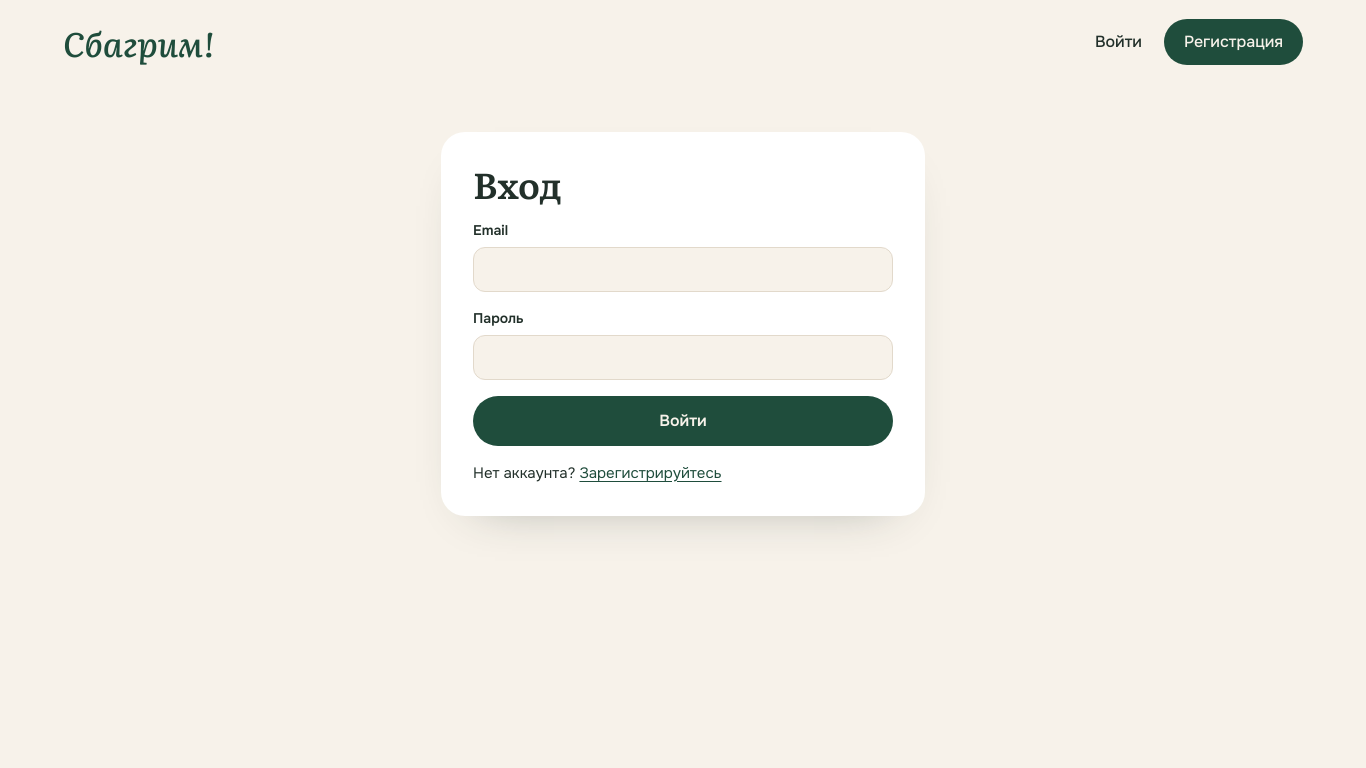
Test: вход и регистрация › показывает ошибку при неверном пароле
Type "ivan@mail.ru" into the field labelled "Email" at x=683, y=269, box top-left (473, 247), bottom-right (893, 292)
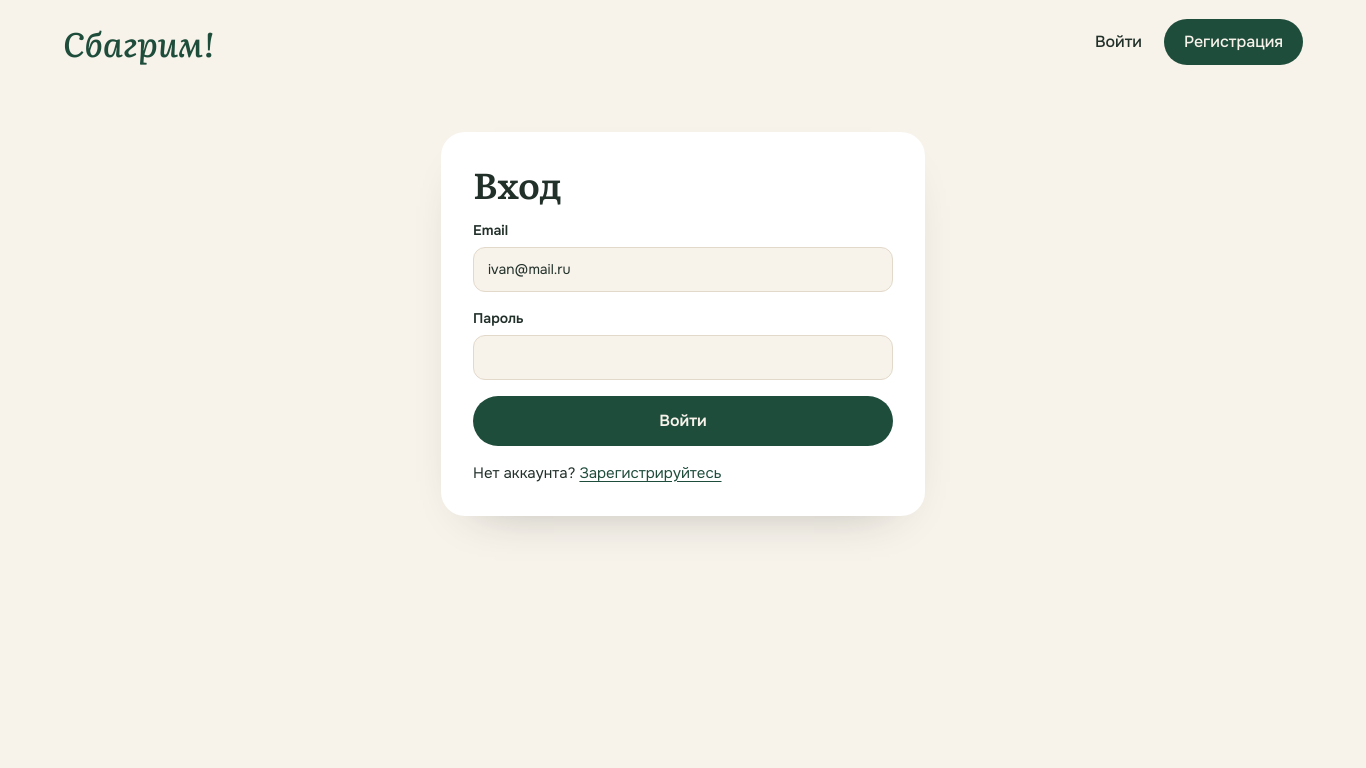
Type "wrong" into the password field labelled "Пароль" at x=683, y=357, box top-left (473, 335), bottom-right (893, 380)
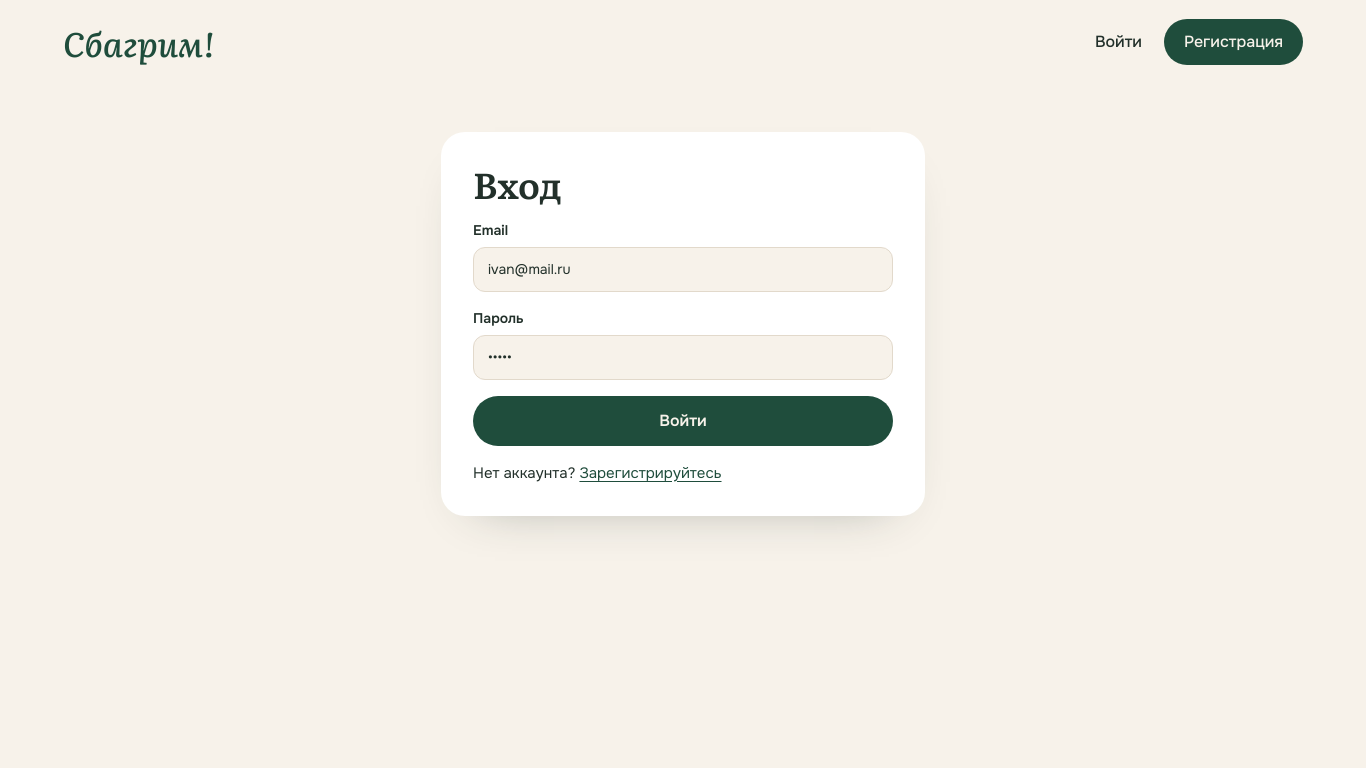
Click the button "Войти" at x=683, y=421, box top-left (473, 396), bottom-right (893, 446)
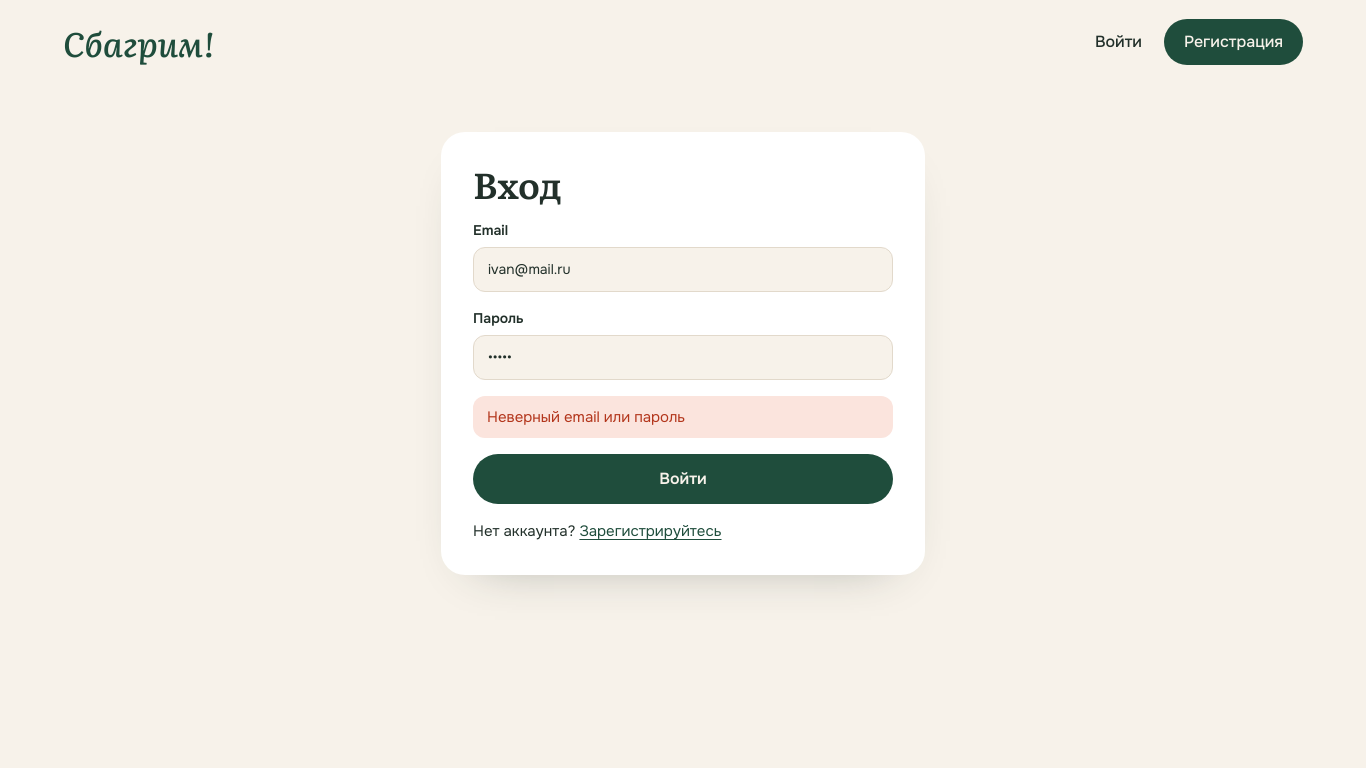
Expected: the message reads "Неверный email или пароль", top-left (487, 407), bottom-right (685, 427)
